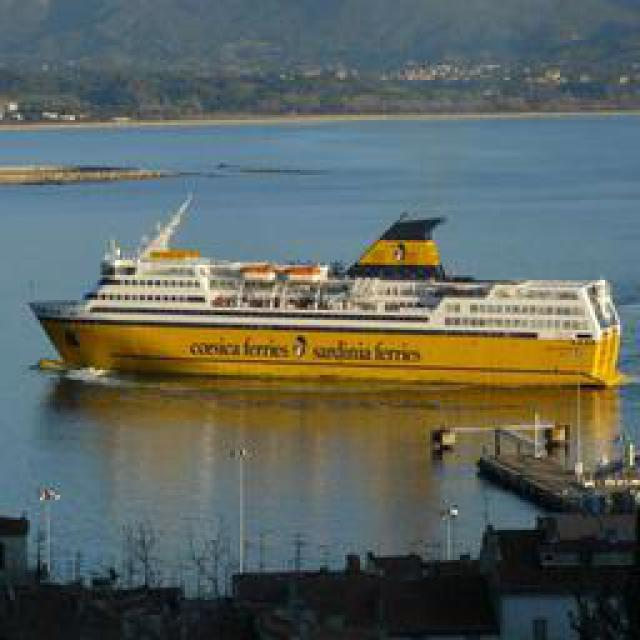Ship: (17, 200, 615, 385)
